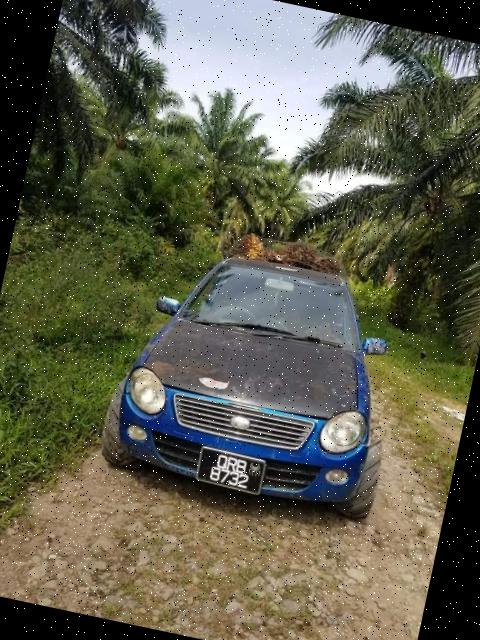License_Plate: (195, 447, 269, 497)
car: (86, 208, 428, 534)
